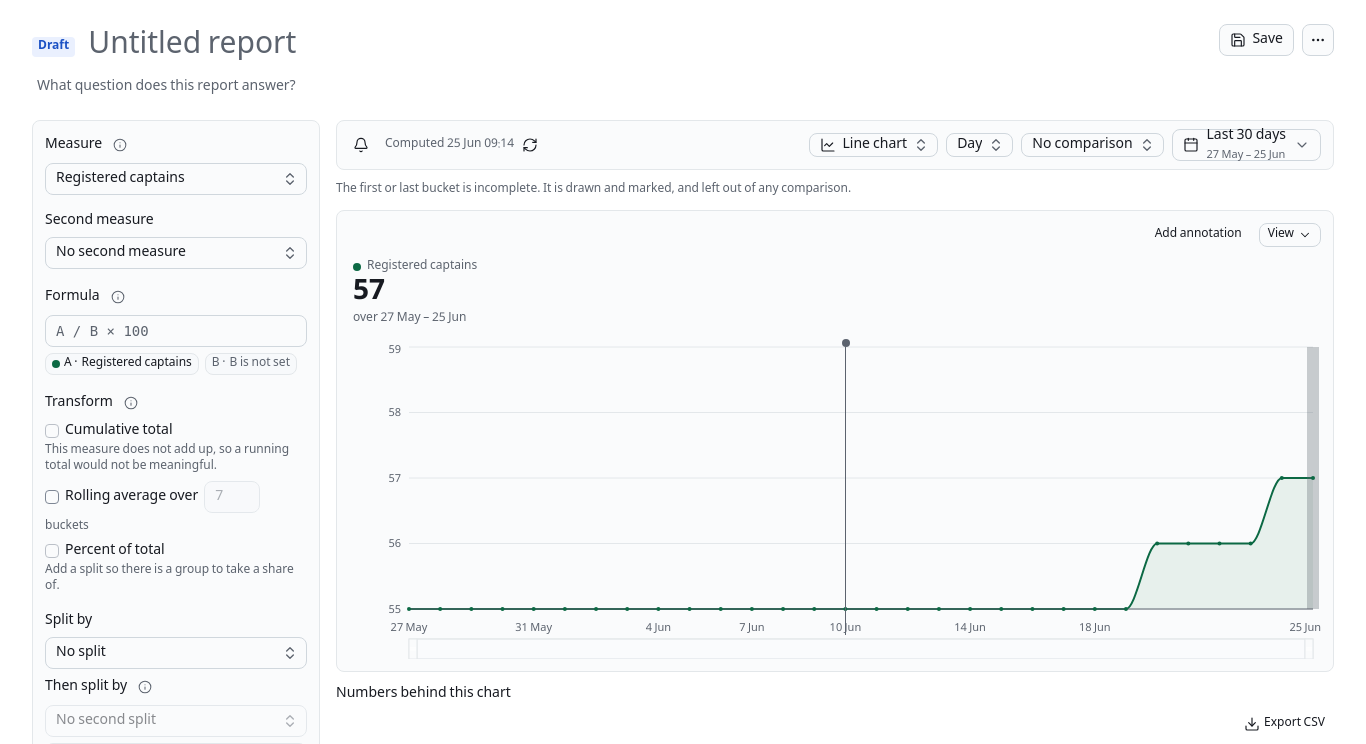
Test case: the builder can hand someone the question it is showing › states a clipboard refusal instead of failing silently, and does not throw
The image size is (1366, 744).
Click the button named "More actions".
click(1318, 40)  # box 1302,24 -> 1334,56
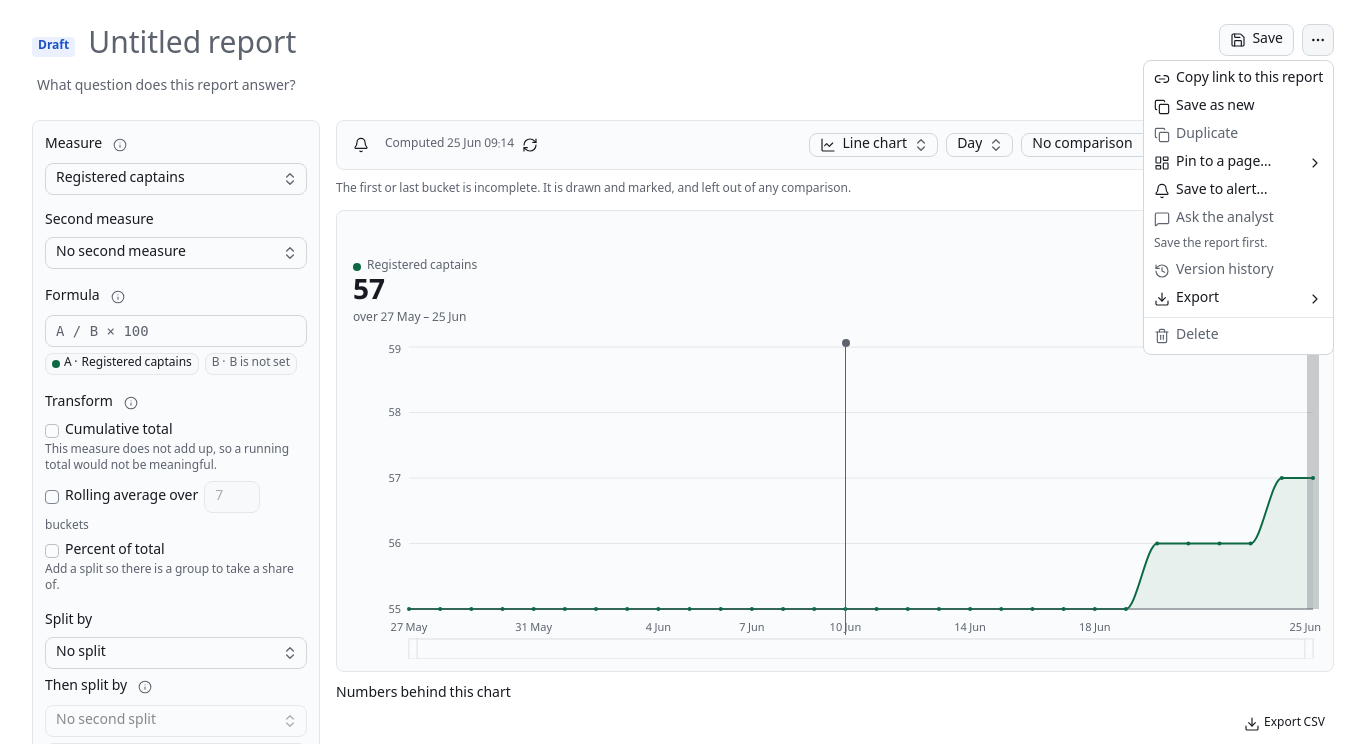
Click the menu item "Copy link to this report".
click(1239, 79)  # box 1148,65 -> 1329,93
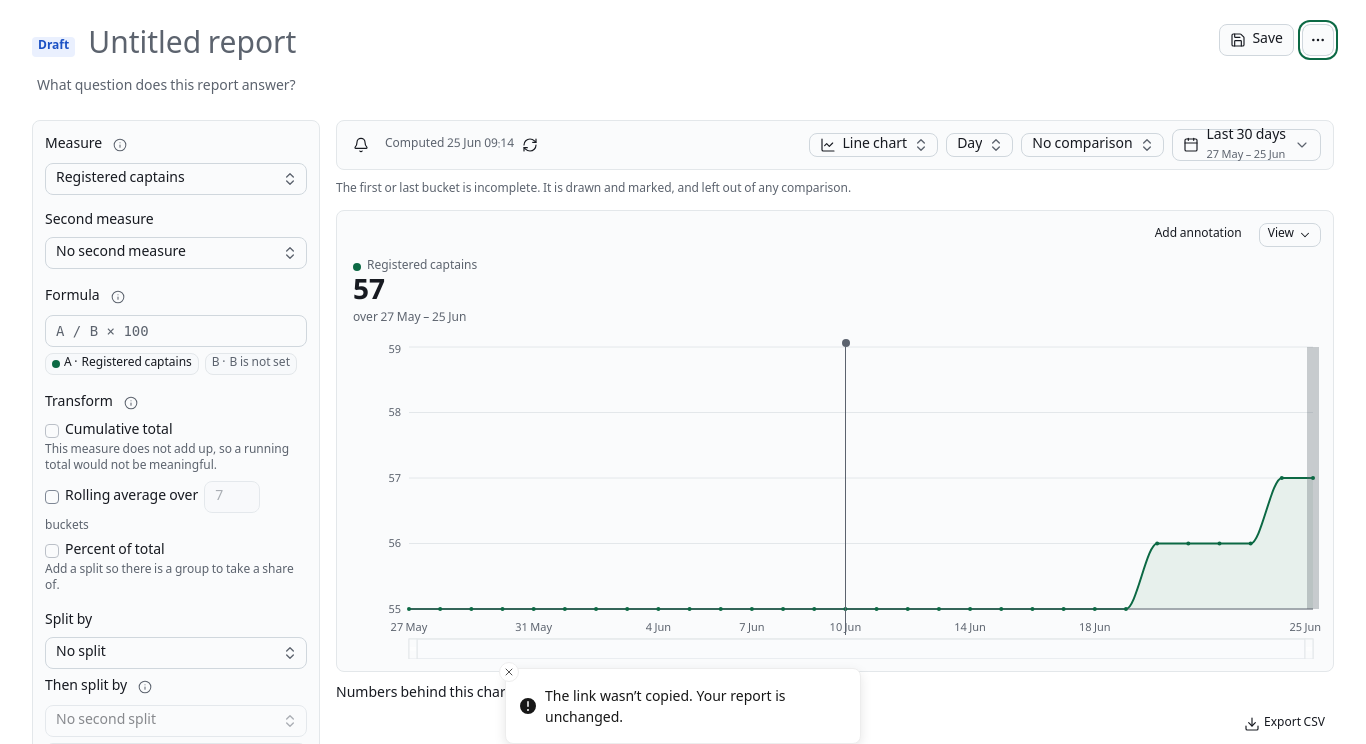
Result: the text "The link wasn’t copied. Your report is unchanged." is shown at 545,686 -> 786,726
